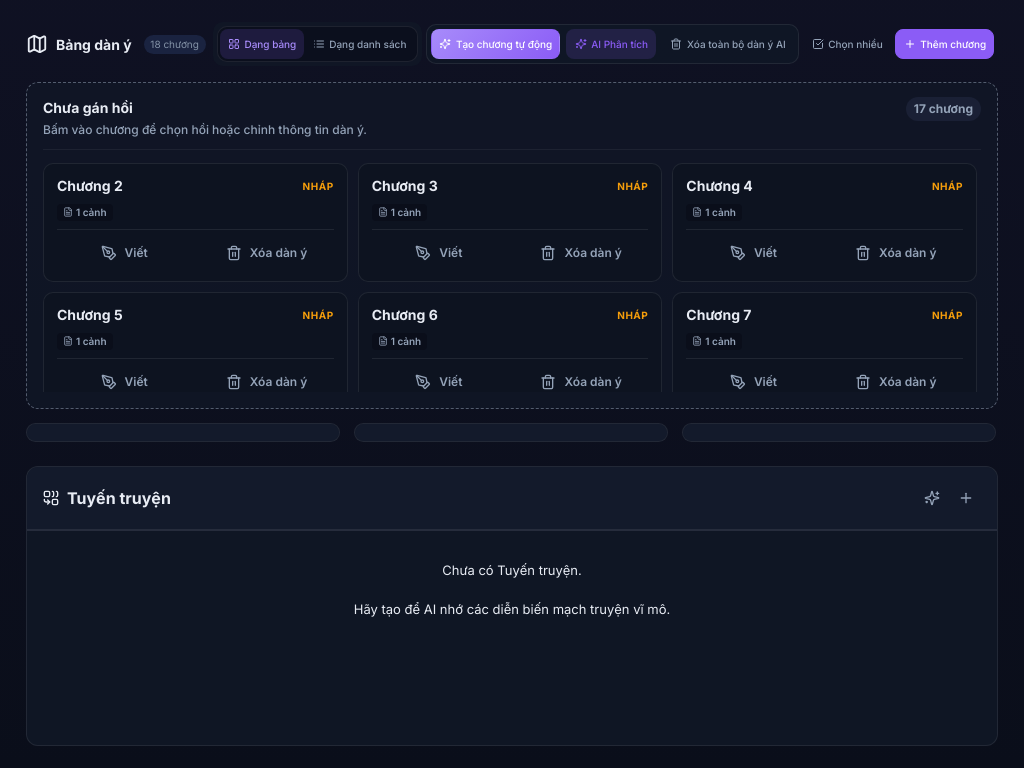
it: phase10 outline board AI analysis safety › shows a visible notice after manually adding a chapter
Click the button "Thêm chương" at point(945, 44), box [896,29,994,59]
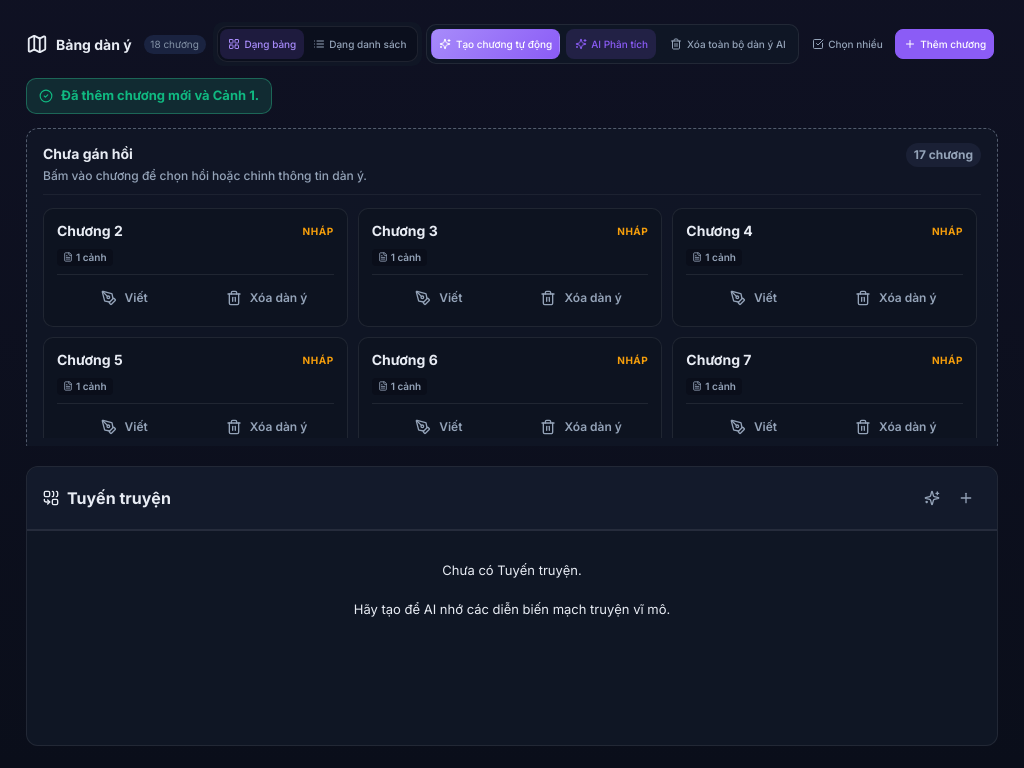
Expected: the text "Đã thêm chương mới và Cảnh 1." is shown, [26,78,272,114]
